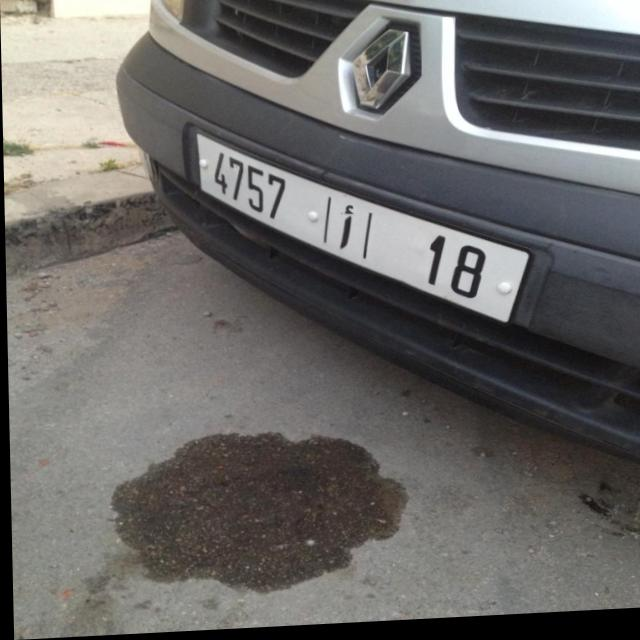License-Plate: (196, 136, 528, 327)
